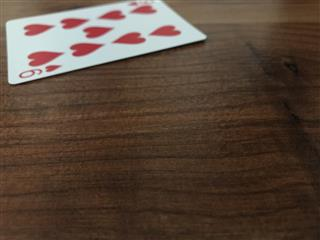NineOfHearts: (4, 1, 207, 84)
